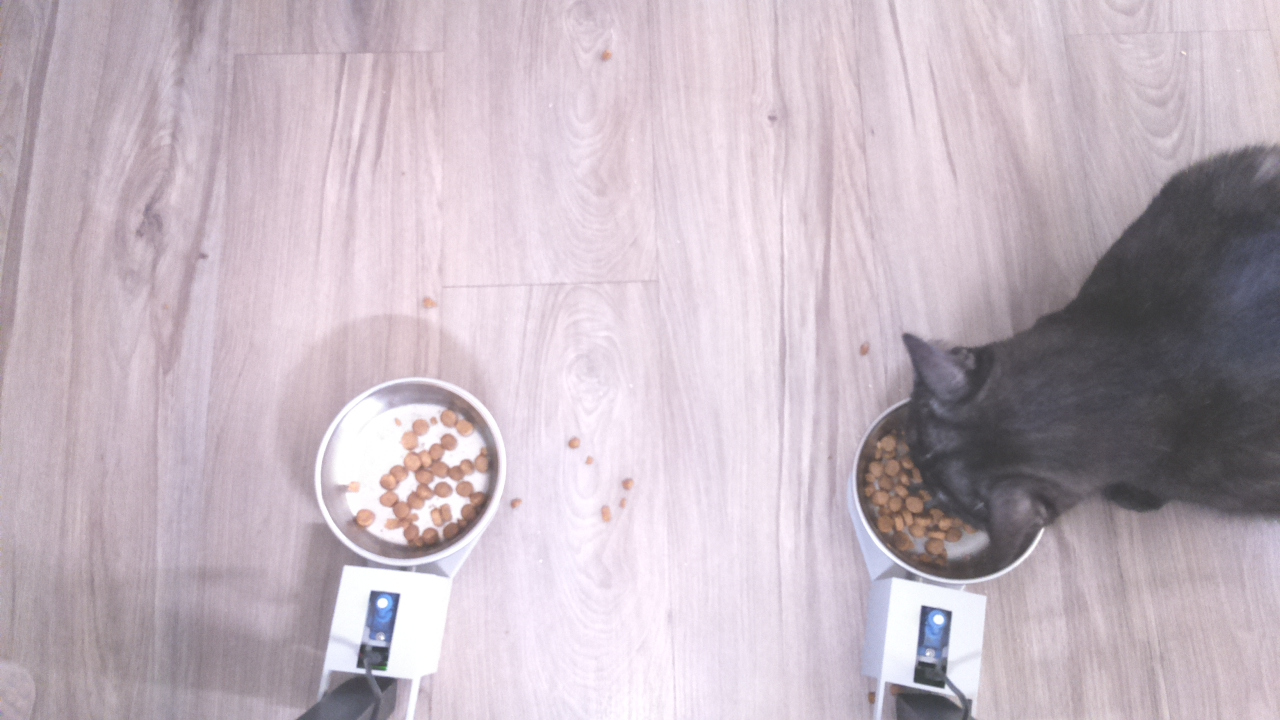open_bowl: (309, 373, 511, 571)
saki_eating: (847, 299, 1109, 592)
